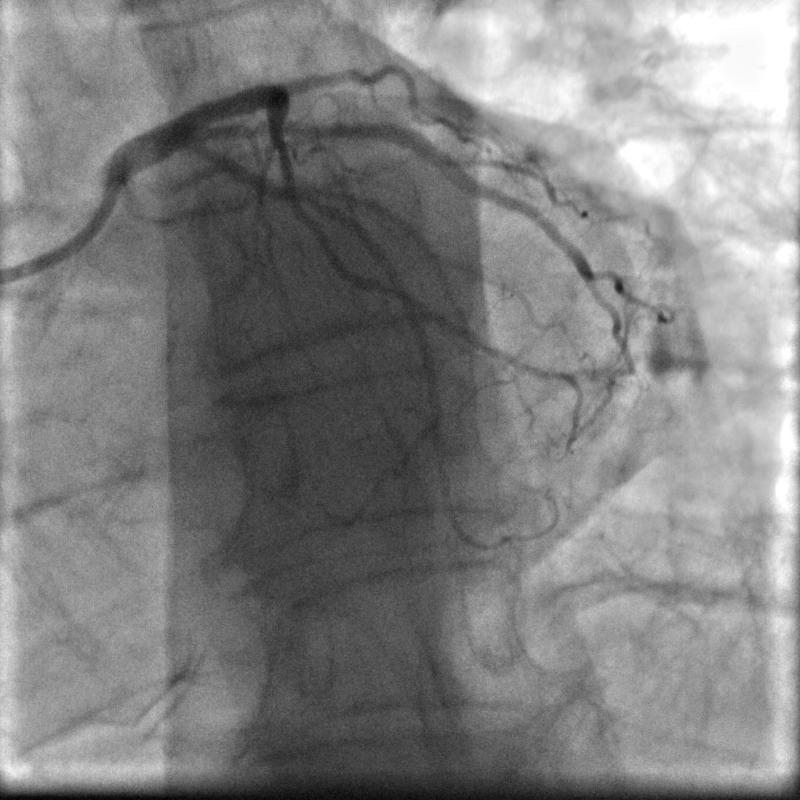Stenosis: (261, 107, 294, 164)
